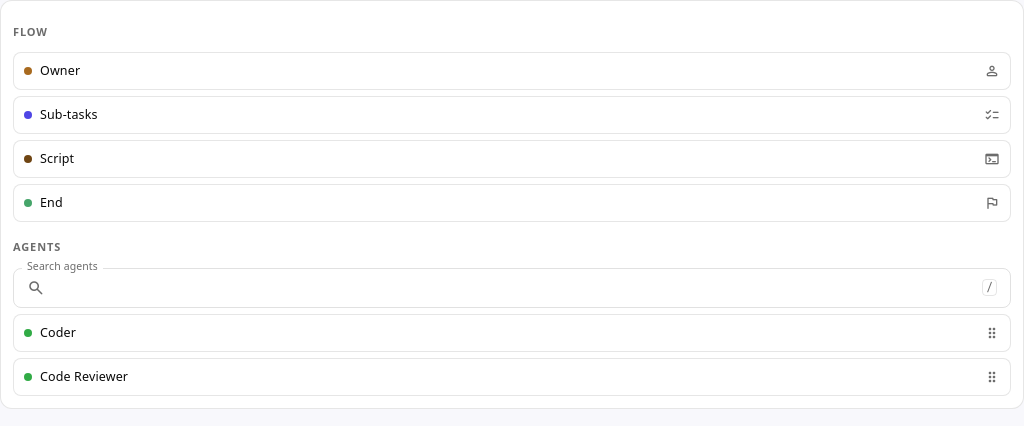
NodePalette › tells the Owner nothing matched when the query filters everything out
In the field labelled "Search agents": (514, 288) [53,268,974,308], type "zzz"
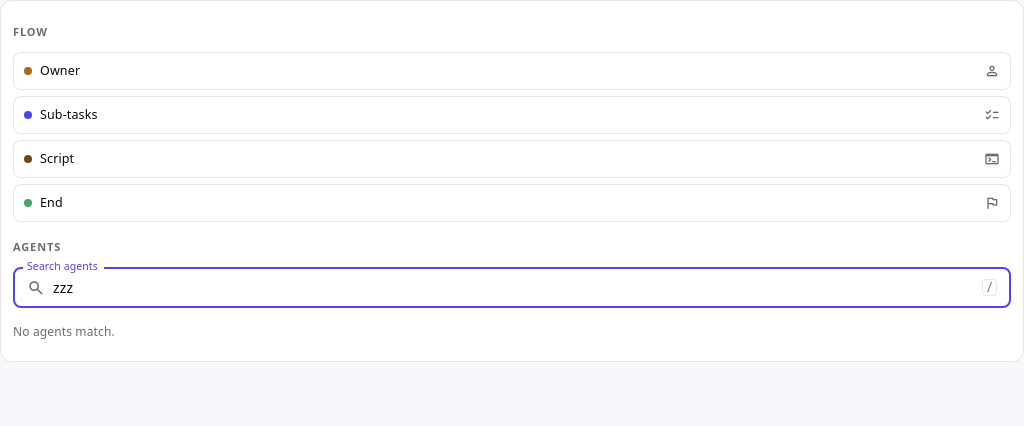
Expected: the text "No agents match." is shown, [13,322,115,340]
